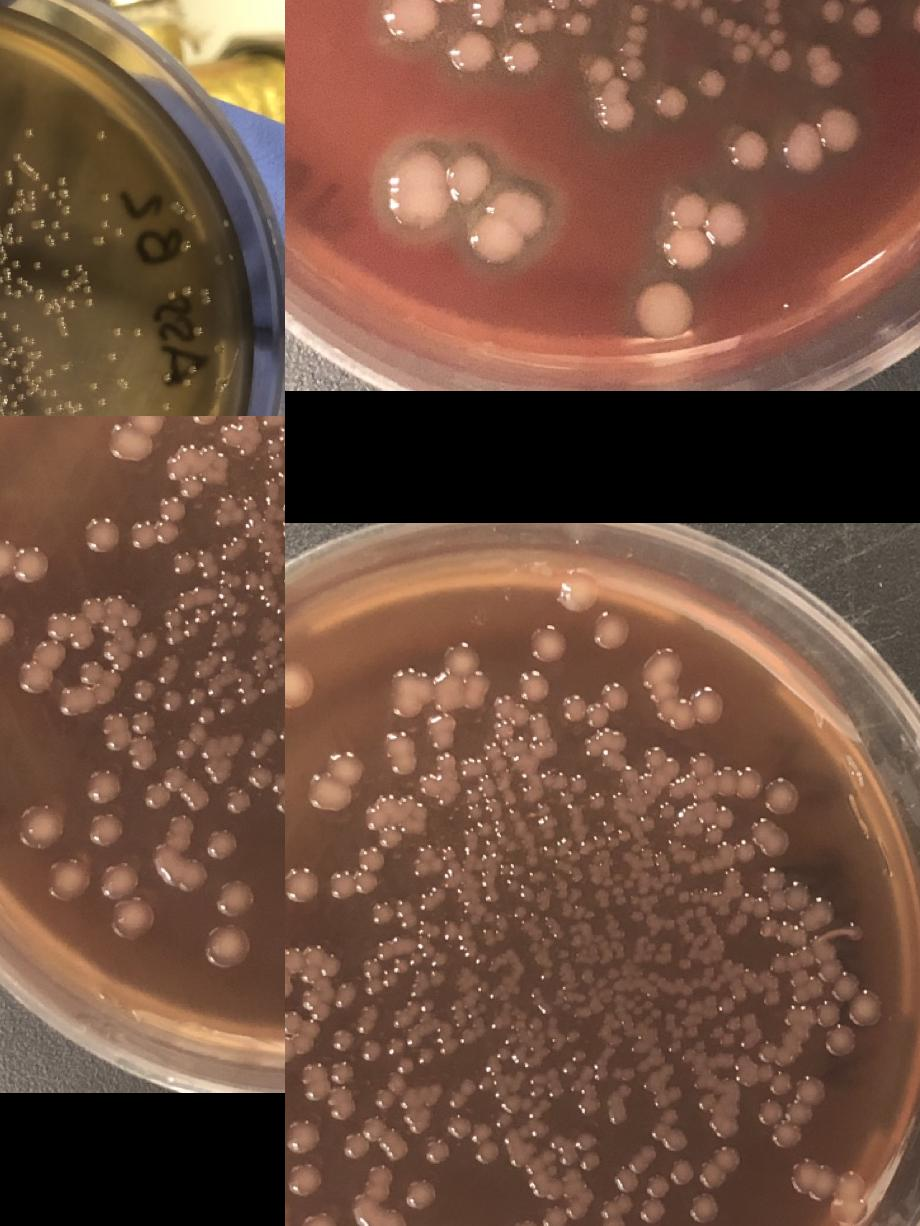assalmonicida: (40, 182, 68, 216), (8, 360, 36, 392), (43, 400, 81, 416), (8, 387, 34, 410), (170, 199, 196, 222), (13, 336, 36, 355), (13, 277, 36, 294), (55, 315, 68, 340), (40, 233, 56, 249), (25, 190, 37, 210), (56, 296, 76, 308), (114, 375, 128, 392), (28, 219, 46, 230), (2, 170, 14, 186), (199, 288, 211, 304), (0, 330, 6, 353)
pddamselae: (384, 147, 498, 229), (468, 187, 545, 265), (666, 190, 745, 266), (382, 0, 464, 45), (635, 277, 694, 336), (616, 2, 650, 82), (448, 31, 494, 73), (515, 0, 570, 34), (652, 83, 692, 123), (693, 62, 733, 102), (728, 131, 768, 171), (808, 54, 844, 88), (582, 52, 617, 84), (599, 100, 634, 132), (848, 7, 881, 40), (504, 40, 538, 72), (472, 0, 501, 26), (768, 48, 792, 72), (566, 15, 588, 38)
vharveyi: (750, 869, 838, 938), (789, 1160, 865, 1226), (648, 674, 722, 731), (99, 863, 153, 941), (818, 959, 882, 1024), (430, 643, 490, 711), (558, 680, 630, 727), (307, 753, 361, 813), (300, 1064, 356, 1120), (128, 497, 184, 552), (102, 714, 156, 770), (328, 846, 382, 902), (355, 1035, 420, 1079), (157, 685, 220, 729), (16, 642, 64, 696), (644, 746, 690, 802), (108, 416, 162, 463), (758, 1101, 808, 1151), (815, 1002, 856, 1055), (0, 538, 46, 583), (163, 444, 201, 498), (18, 802, 62, 848), (44, 856, 88, 902), (205, 922, 249, 968), (556, 568, 600, 614), (362, 795, 400, 848), (342, 1116, 388, 1158), (541, 1201, 618, 1226), (144, 766, 188, 809), (697, 1146, 742, 1188), (581, 732, 628, 772), (44, 611, 92, 649), (647, 1109, 687, 1152), (492, 696, 529, 741), (638, 1174, 670, 1223), (214, 879, 252, 917), (286, 1161, 324, 1199), (83, 515, 120, 553), (87, 811, 124, 849), (754, 1062, 793, 1098), (84, 770, 120, 807), (388, 680, 424, 716), (758, 824, 794, 860), (762, 780, 798, 816), (285, 1120, 319, 1157), (285, 865, 318, 903), (56, 686, 96, 716), (386, 734, 416, 774), (704, 808, 734, 846), (300, 988, 332, 1023), (285, 661, 309, 707), (598, 1195, 633, 1226), (532, 627, 564, 660), (101, 638, 132, 672), (204, 830, 236, 862), (403, 1180, 435, 1212), (518, 670, 550, 702), (594, 615, 626, 647), (687, 1194, 719, 1226), (364, 1166, 392, 1202), (574, 1132, 598, 1172), (166, 816, 192, 852), (178, 862, 206, 892), (382, 1136, 410, 1164), (464, 780, 495, 805), (461, 822, 492, 846), (170, 738, 198, 764), (184, 786, 210, 814), (328, 1028, 356, 1054), (414, 771, 442, 797), (736, 769, 763, 795), (80, 598, 106, 624), (130, 678, 156, 704), (132, 633, 158, 659), (168, 553, 194, 579), (216, 421, 242, 447), (331, 983, 357, 1009), (367, 903, 393, 929), (370, 1088, 396, 1114), (688, 752, 714, 778), (562, 1050, 586, 1076), (396, 900, 416, 930), (614, 1168, 639, 1192), (130, 710, 154, 734), (248, 766, 272, 790), (329, 1060, 353, 1084), (426, 1140, 450, 1164), (446, 1116, 470, 1140), (475, 1142, 499, 1166), (197, 550, 216, 580), (227, 791, 251, 814), (262, 471, 285, 495), (671, 1160, 694, 1184), (118, 603, 143, 625), (78, 662, 102, 684), (318, 953, 342, 975), (430, 728, 454, 750), (784, 928, 808, 950), (285, 948, 305, 974), (265, 429, 285, 454), (376, 1211, 405, 1226), (536, 814, 556, 834), (568, 774, 588, 794), (585, 791, 605, 811), (606, 1106, 626, 1126), (696, 1092, 716, 1112), (734, 842, 754, 862), (546, 771, 565, 791), (763, 989, 782, 1009), (657, 802, 676, 821), (285, 1012, 300, 1034), (285, 1035, 295, 1066), (220, 545, 237, 561), (228, 622, 244, 638), (420, 895, 436, 911), (560, 1150, 576, 1166), (241, 496, 256, 512), (242, 689, 257, 705), (440, 846, 455, 862), (460, 1080, 475, 1096), (460, 1029, 475, 1045), (496, 1112, 511, 1128), (667, 1085, 682, 1101), (227, 604, 244, 618), (426, 954, 443, 968), (187, 416, 216, 424), (262, 730, 276, 746), (262, 679, 276, 695), (428, 972, 442, 988), (442, 1039, 456, 1055), (276, 791, 285, 815)
